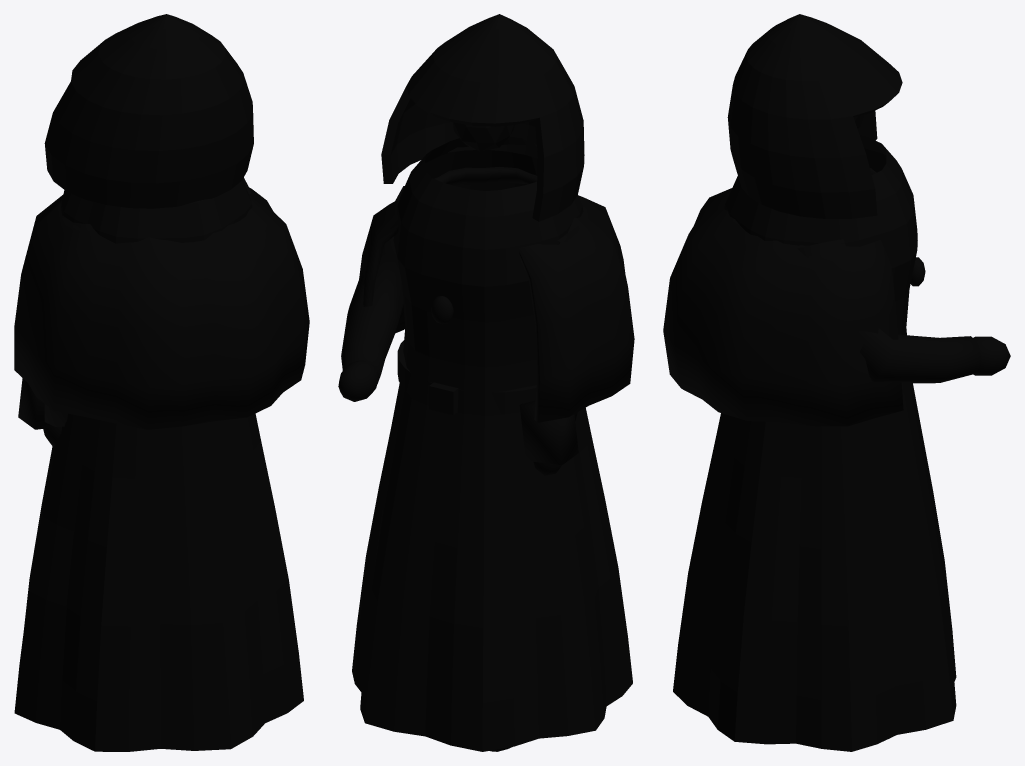
Rendered from seeker.glb.
The picture shows the model from 3 angles, left to right: view 1: azimuth 30°, elevation 25°; view 2: azimuth 150°, elevation 25°; view 3: azimuth 270°, elevation 25°; orthographic projection. The views are drawn at different scales.
Parts seen in each view (by area): view 1: Seeker; view 2: Seeker; view 3: Seeker.
Part boxes in pixels (x1=…): Seeker: x1=14, y1=14, x2=309, y2=751; Seeker: x1=338, y1=14, x2=634, y2=751; Seeker: x1=663, y1=14, x2=1010, y2=751.
Bounding box in the file's own units: 0.6537 × 1.8 × 0.7955.
Materials: 1 (1 with a texture image).
